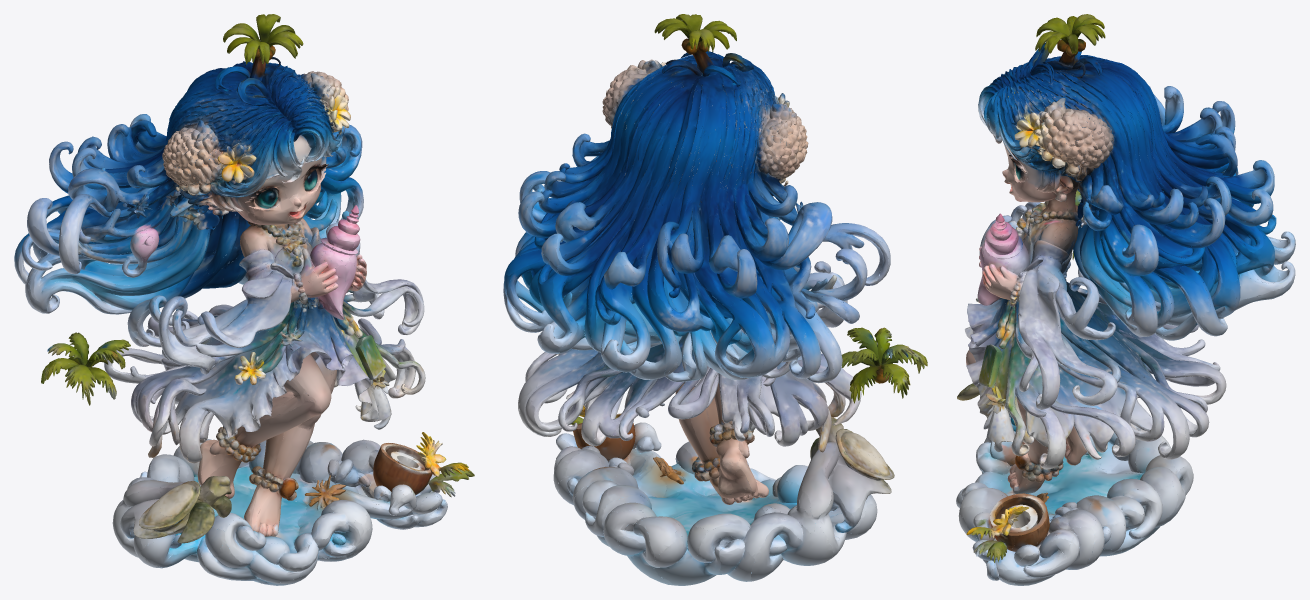
File: luoyin-avatar-mobile.glb
3 views of the same model, side by side, from view 1: azimuth 30°, elevation 25°; view 2: azimuth 150°, elevation 25°; view 3: azimuth 270°, elevation 25° (orthographic). The views are drawn at different scales.
Visible parts, largest first — view 1: SM_LuoyinStatic; view 2: SM_LuoyinStatic; view 3: SM_LuoyinStatic.
Part boxes in pixels (x1,y1,x2,y2): SM_LuoyinStatic: (14,14,474,585); SM_LuoyinStatic: (503,14,927,585); SM_LuoyinStatic: (956,14,1295,585).
Bounding box in the file's own units: 0.6398 × 0.84 × 0.4915.
1 material, 1 textured.
